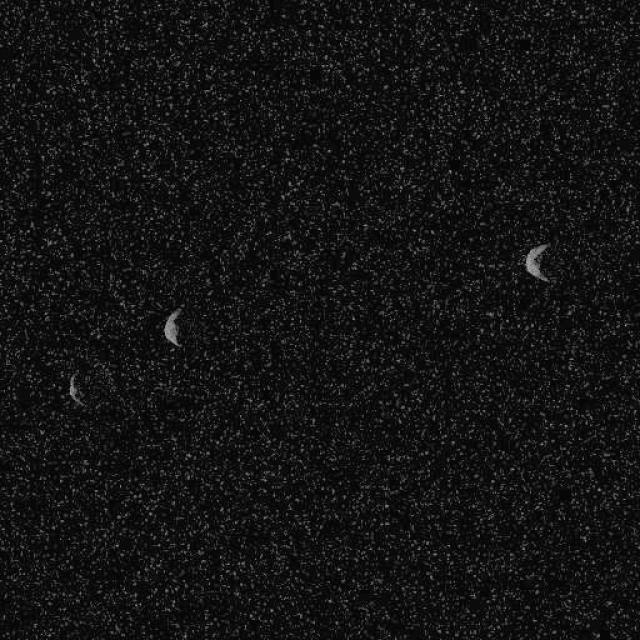D2: (524, 241, 551, 284), (162, 306, 182, 346), (66, 372, 85, 408)
